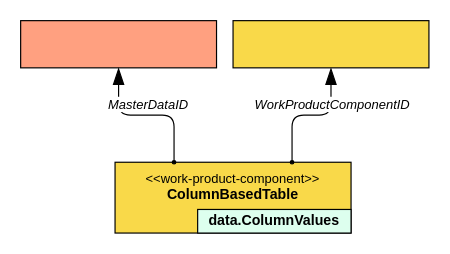
The diagram is 450 pixels wide and 254 high, and some of its shapes have lost their labels. Each missing label, with the centre of its shape:
<<master-data>> AnyMasterData or Project: point 118,43
<<work-product-component>> AnyWPC or Activity: point 330,43
